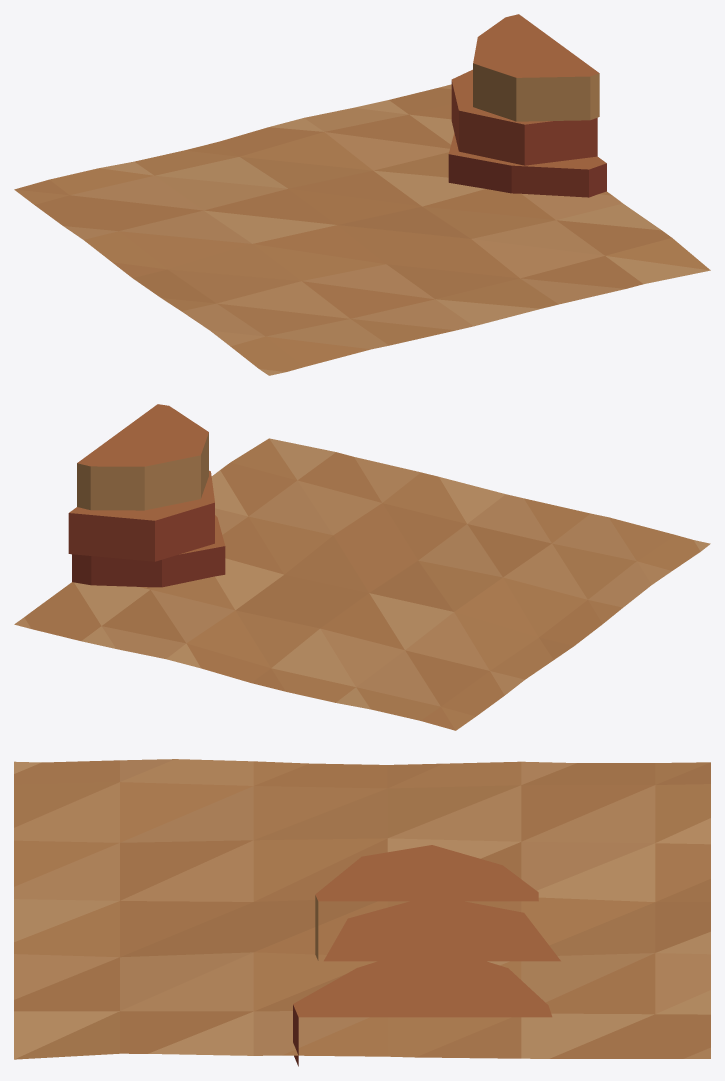
3 views of the same model, one above another, from view 1: azimuth 30°, elevation 25°; view 2: azimuth 150°, elevation 25°; view 3: azimuth 270°, elevation 25° (orthographic). The views are drawn at different scales.
Visible parts, largest first — view 1: baked; view 2: baked; view 3: baked.
Part boxes in pixels (x1=…): baked: x1=14, y1=14, x2=710, y2=375; baked: x1=14, y1=404, x2=710, y2=730; baked: x1=14, y1=759, x2=710, y2=1066.
Bounding box in the file's own units: 62.5 × 16.37 × 62.5.
